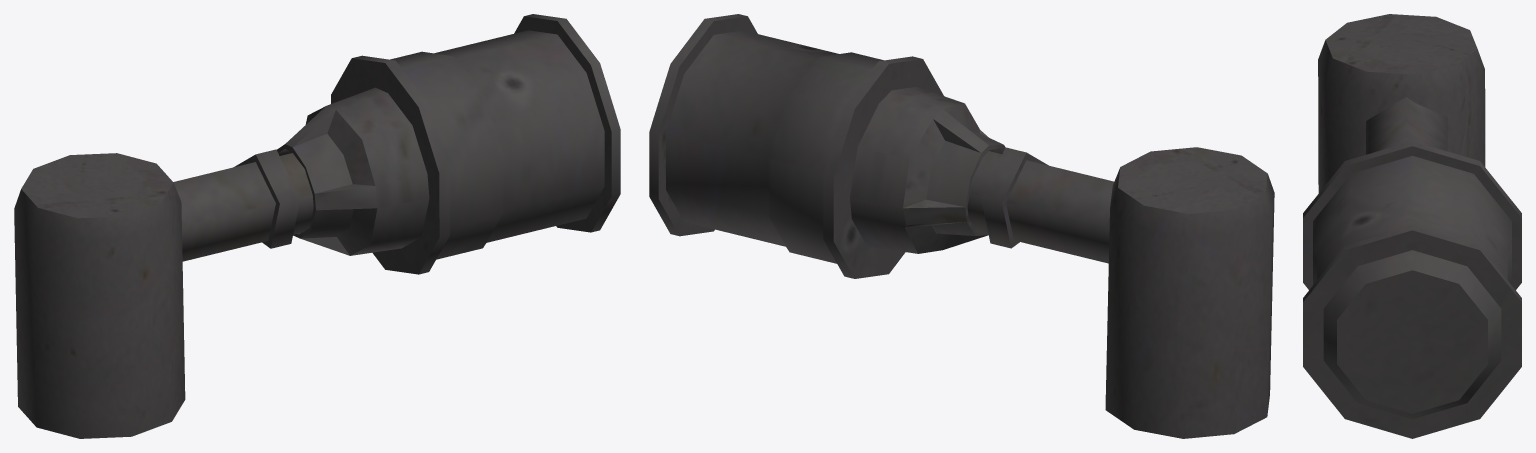
Rendered from SM_EN_1002_chuangcang09.FBX.
The picture shows the model from 3 angles, left to right: view 1: azimuth 30°, elevation 25°; view 2: azimuth 150°, elevation 25°; view 3: azimuth 270°, elevation 25°; orthographic projection.
Parts seen in each view (by area): view 1: SM_EN_1002_chuangcang09; view 2: SM_EN_1002_chuangcang09; view 3: SM_EN_1002_chuangcang09.
Part boxes in pixels (x1,y1,x2,y2): SM_EN_1002_chuangcang09: (14,14,620,438); SM_EN_1002_chuangcang09: (649,14,1274,438); SM_EN_1002_chuangcang09: (1303,14,1521,438).
Size of the model in its own units: 48.94 by 22.35 by 16.4.
